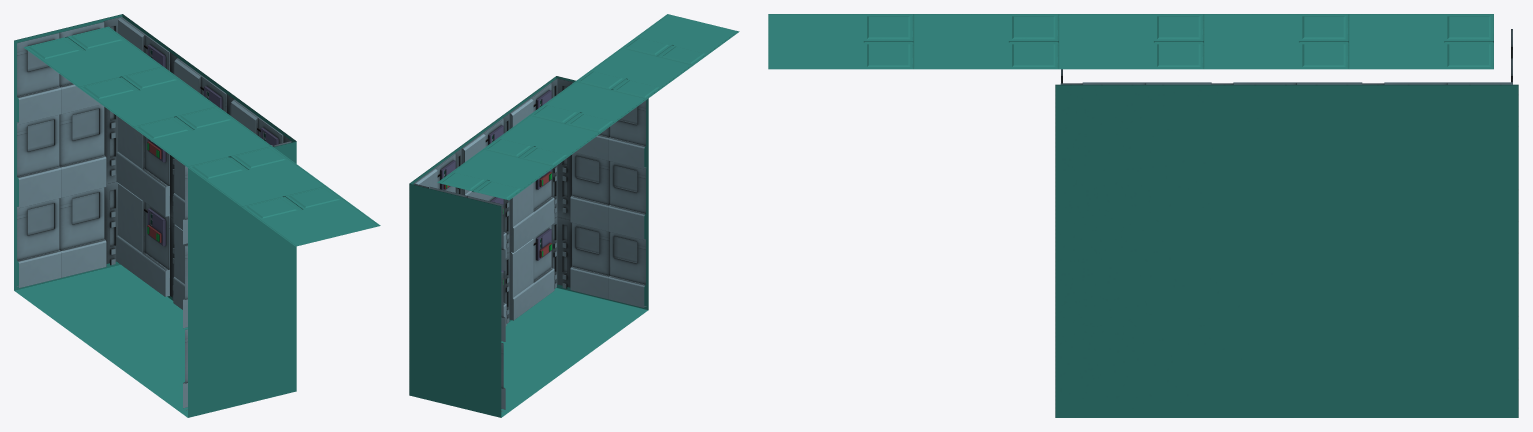
Rendered from sc_lvl1_floortile_22.FBX.
The picture shows the model from 3 angles, left to right: view 1: azimuth 30°, elevation 25°; view 2: azimuth 150°, elevation 25°; view 3: azimuth 270°, elevation 25°; orthographic projection. The views are drawn at different scales.
Parts seen in each view (by area): view 1: sc_lvl1_floortile_depthMask_R, sc_lvl1_floortile_underground_R, sc_lvl1_floortile_riser_R, sc_lvl1_floortile_022; view 2: sc_lvl1_floortile_depthMask_R, sc_lvl1_floortile_underground_R, sc_lvl1_floortile_riser_R, sc_lvl1_floortile_022; view 3: sc_lvl1_floortile_depthMask_R, sc_lvl1_floortile_riser_R, sc_lvl1_floortile_022, sc_lvl1_floortile_underground_R.
Boxes of the visible parts, box(x1,y1,x2,y2) form: sc_lvl1_floortile_depthMask_R: box(14, 14, 296, 417); sc_lvl1_floortile_underground_R: box(16, 17, 291, 410); sc_lvl1_floortile_riser_R: box(24, 26, 262, 159); sc_lvl1_floortile_022: box(177, 139, 380, 246); sc_lvl1_floortile_depthMask_R: box(409, 76, 648, 417); sc_lvl1_floortile_underground_R: box(413, 78, 646, 411); sc_lvl1_floortile_riser_R: box(437, 87, 638, 200); sc_lvl1_floortile_022: box(568, 14, 739, 104); sc_lvl1_floortile_depthMask_R: box(1055, 84, 1518, 417); sc_lvl1_floortile_riser_R: box(1083, 14, 1493, 69); sc_lvl1_floortile_022: box(768, 14, 1083, 69); sc_lvl1_floortile_underground_R: box(1060, 29, 1512, 84).
Bounding box in the file's own units: 23.07 × 50.81 × 103.
